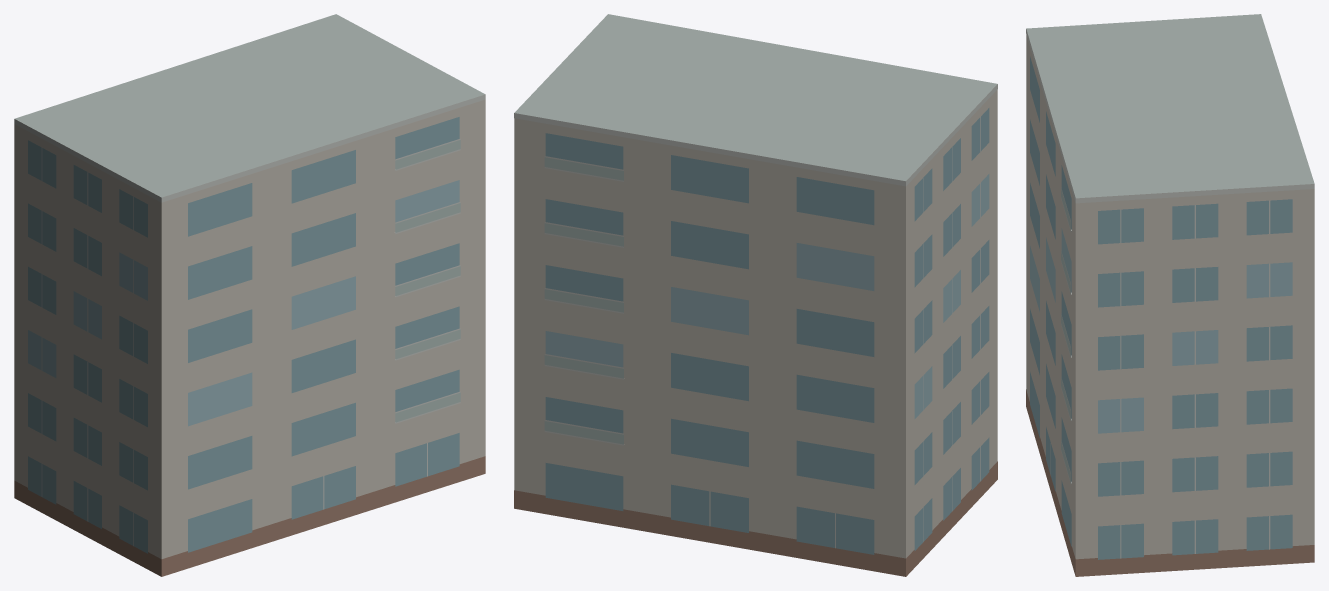
File: survey-upis-32575344.glb
3 renders of one model, left to right at view 1: azimuth 30°, elevation 25°; view 2: azimuth 150°, elevation 25°; view 3: azimuth 270°, elevation 25°, orthographic. The views are drawn at different scales.
Parts seen in each view (by area): view 1: survey-upis-32575344.tmp; view 2: survey-upis-32575344.tmp; view 3: survey-upis-32575344.tmp.
Boxes of the visible parts, left/top/right/bottom form: survey-upis-32575344.tmp: left=14, top=14, right=485, bottom=576; survey-upis-32575344.tmp: left=514, top=14, right=997, bottom=576; survey-upis-32575344.tmp: left=1026, top=14, right=1314, bottom=576.
Size of the model in its own units: 19.12 by 18.3 by 12.65.
